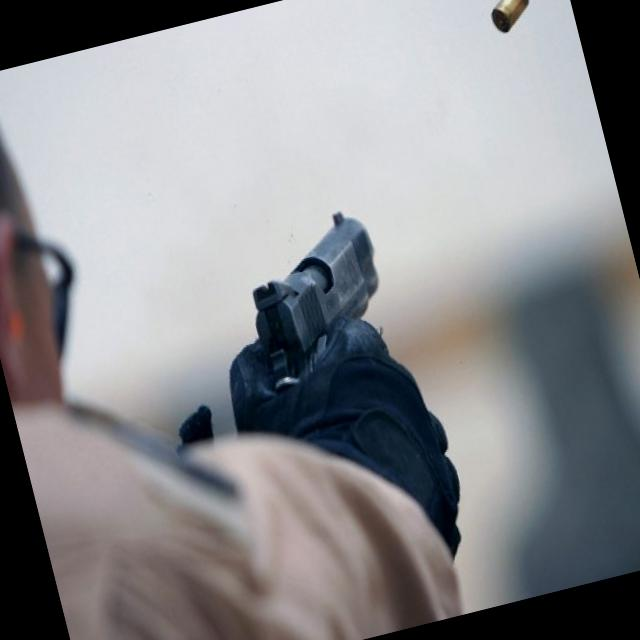handgun: (202, 185, 427, 448)
